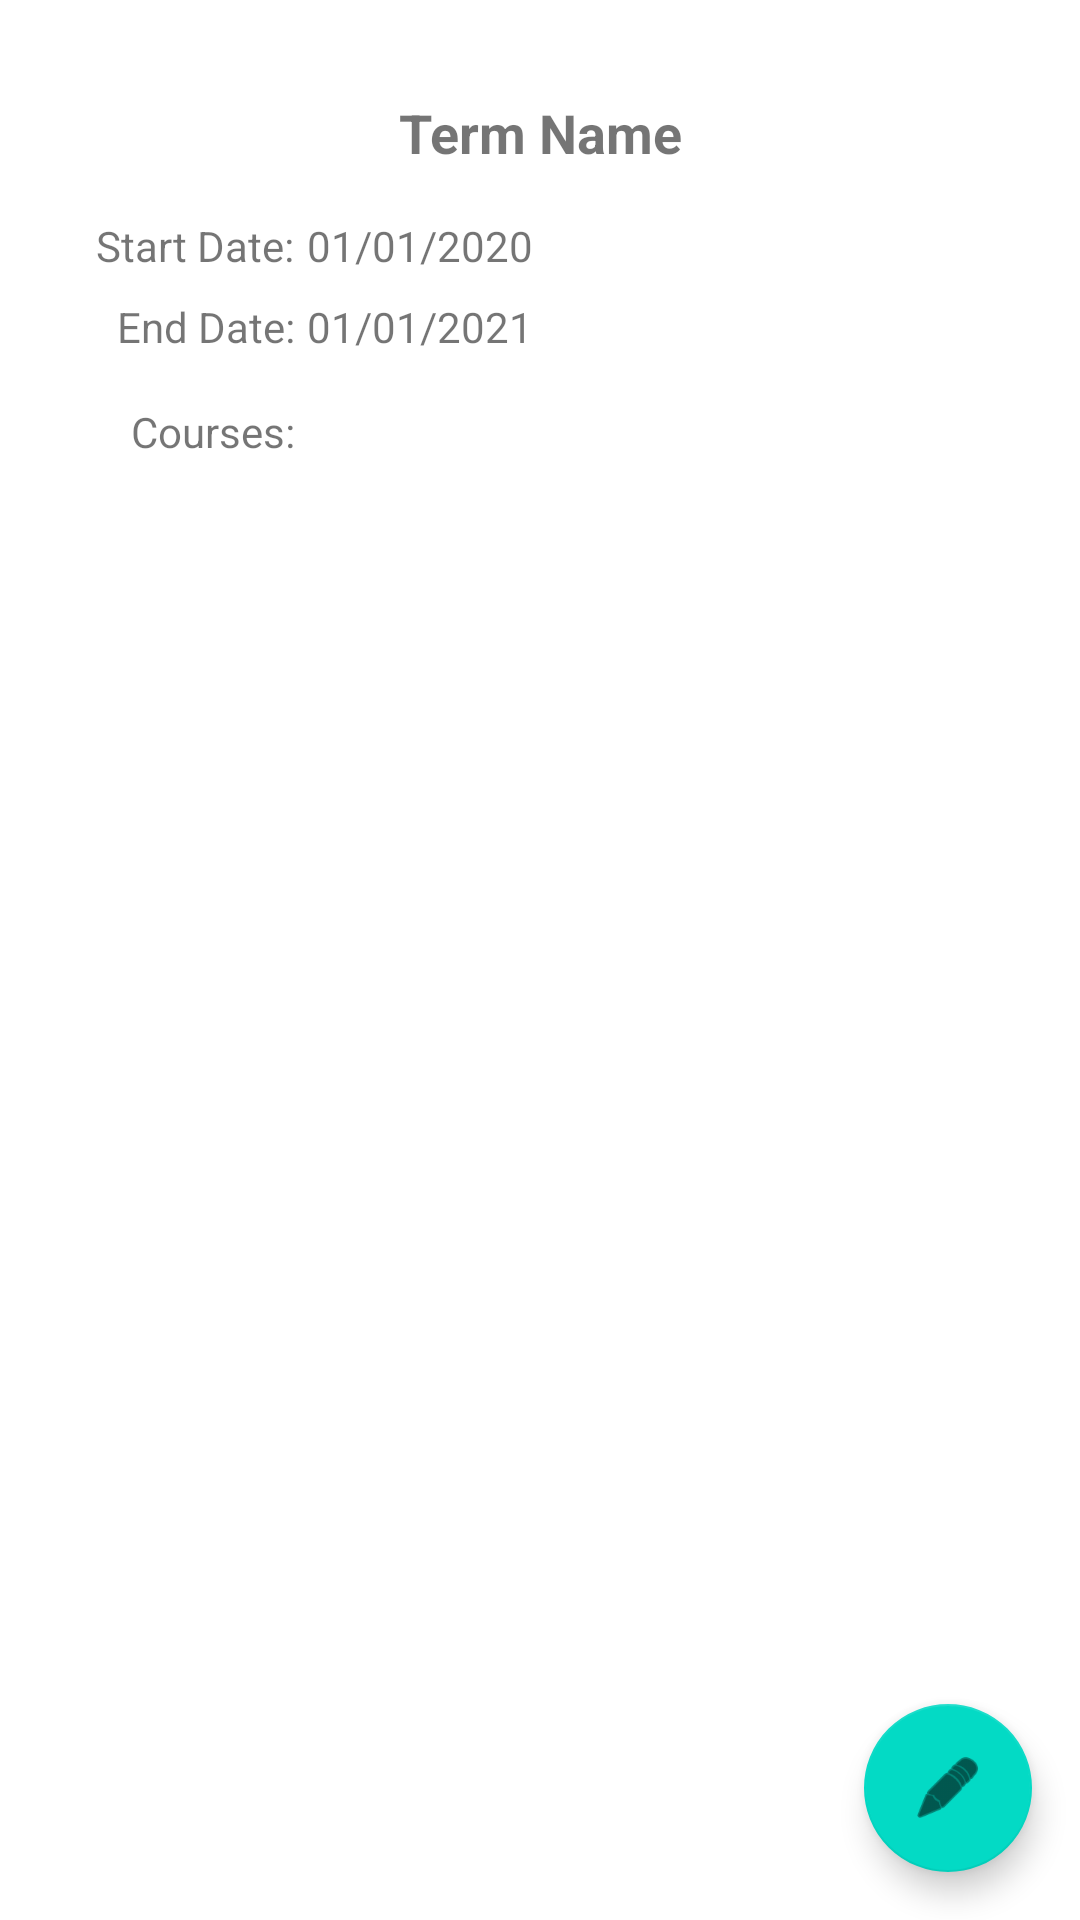

Icons on this 1080px x 1920px Android screen, each with its box as bbox(x1, y1, x2, y2):
edit: bbox(864, 1704, 1032, 1872)
